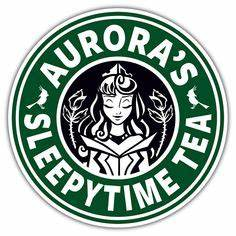starbucks Fake: (5, 5, 231, 229)
